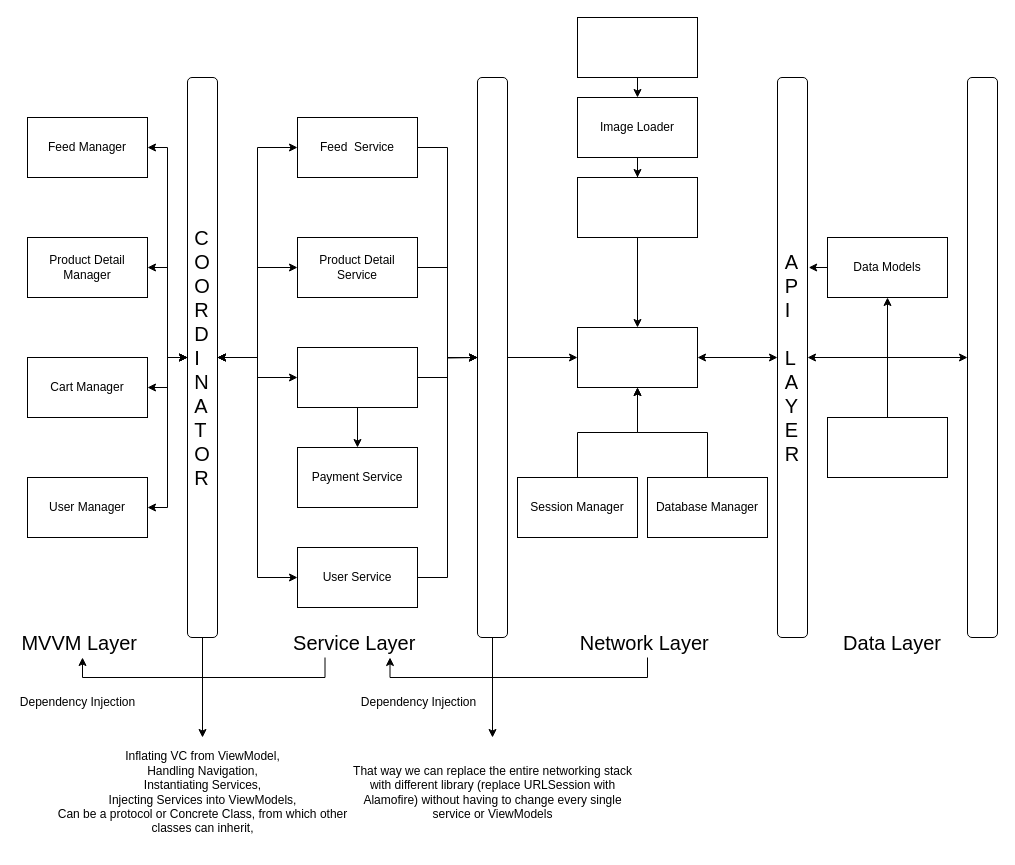
Some shapes in this 1015 by 865 pixel diagram are drawn without their labels. Each missing label, with the centre of its shape:
"B A C K E N D" goes at [982,357].
"Cart Service" goes at [357,377].
"Encoder/Decoder" goes at [887,447].
"I N T E R F A C E S" goes at [492,357].
"Image Cache" goes at [637,47].
"Image Manager" goes at [637,207].
"Network Manager" goes at [637,357].
